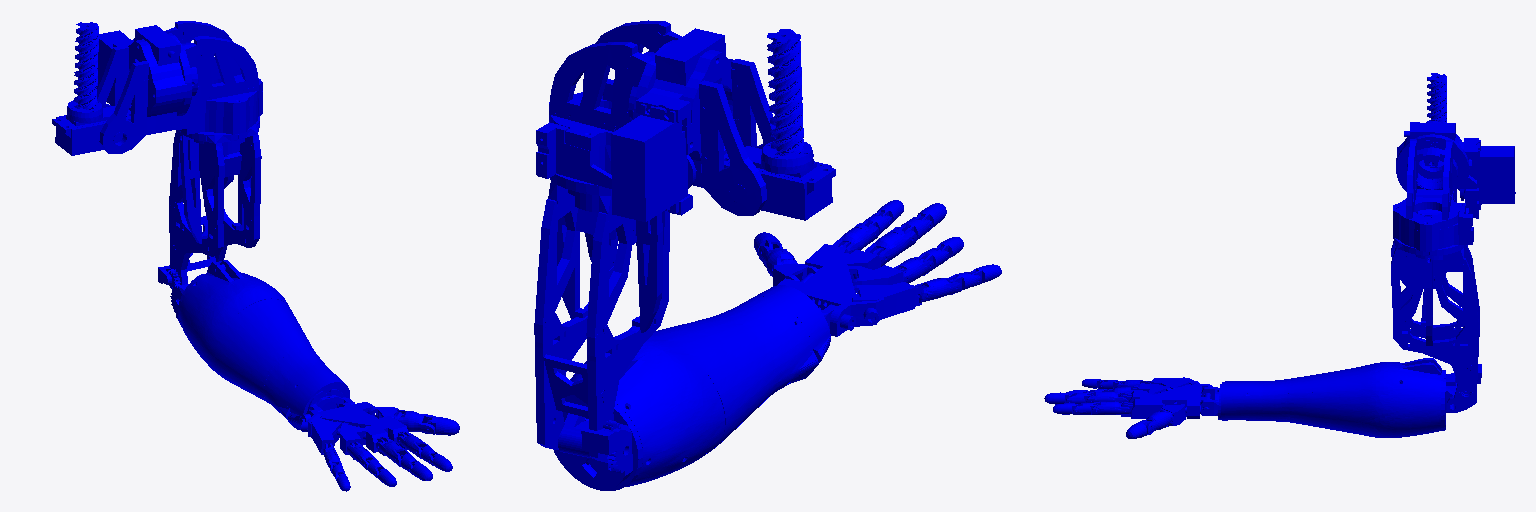
URDF robot description (RobotArm):
<?xml version="1.0"?>
<robot name="RobotArm">

    <material name="blue">
        <color rgba="0 0 1 1"/>
    </material>


<link name="base_link">
        <visual>
            <geometry>
<mesh filename="package://inmoov_description/STL/spallasinistraparte2a.dae" scale="0.009 0.009 0.009" />
            </geometry>
            <origin rpy="4.7 4.747 -0.03" xyz="0.11 -1 -0.91" />
            <material name="blue"/>
        </visual>
        <collision>
            <geometry>
               <mesh filename="package://inmoov_description/STL/spallasinistraparte2a.dae" scale="0.009 0.009 0.009" />
            </geometry>
          <origin rpy="0 0 0" xyz="0 0 0" />
            <material name="blue"/>
        </collision>
    </link>

    <joint name="joint_spallasx" type="revolute">
        <parent link="base_link"/>
        <child link="spalla2_link"/>
      <origin rpy="0 0 -0.02" xyz="0.61 -0.66 -0.31" />
        <axis xyz="1 0 0"/>
        <limit effort="1000" lower="-0.4" upper="0.4" velocity="5"/>
    </joint> 

<link name="spalla2_link">
        <visual>
            <geometry>
<mesh filename="package://inmoov_description/STL/spallasxparte1b.dae" scale="0.009 0.009 0.009" />
            </geometry>
            <origin rpy="4.7 4.747 -0.03" xyz="-0.50 -0.34 -0.6" />
            <material name="blue"/>
        </visual>
        <collision>
            <geometry>
               <mesh filename="package://inmoov_description/STL/spallasxparte1b.dae" scale="0.009 0.009 0.009" />
            </geometry>
          <origin rpy="0 0 0" xyz="0 0 0" />
            <material name="blue"/>
        </collision>
    </link>

    <joint name="joint_bicipitesx" type="revolute">
        <parent link="spalla2_link"/>
        <child link="bicipitesx_link"/>
      <origin rpy="0 0 0" xyz="0.165 0.06 -2.595" />
        <axis xyz="0 0 1"/>
        <limit effort="1000" lower="0" upper="0.5" velocity="5"/>
    </joint>  

  <link name="bicipitesx_link">
        <visual>
            <geometry>
                 <mesh filename="package://inmoov_description/STL/bicipitesxtelaio.dae" scale="0.009 0.009 0.009" />
            </geometry>
            <origin rpy="4.7 0 -0.03" xyz="-1.028 -0.36 2.01" />
            <material name="blue"/>
        </visual>
        <collision>
            <geometry>
               <mesh filename="package://inmoov_description/STL/bicipitesxtelaio.dae" scale="0.009 0.009 0.009" />
            </geometry>
          <origin rpy="0 0 0" xyz="0 0 0" />
            <material name="blue"/>
        </collision>
    </link>

<joint name="joint_servobicipitesx2" type="revolute">
        <parent link="avambracciosx_link"/>
        <child link="servobicipitesx_link"/>
      <origin rpy="0 0 0" xyz="-0.14 -0.15 0.4" />
        <axis xyz="1 0 0"/>
        <limit effort="1000" lower="0.15" upper="0.15" velocity="5"/>
    </joint> 

  <link name="servobicipitesx_link">
        <visual>
            <geometry>
                 <mesh filename="package://inmoov_description/STL/servomotoresinistrobicipite.dae" scale="0.009 0.009 0.009" />
            </geometry>
            <origin rpy="4.7 0 -0.03" xyz="-1.02 -0.455 1.64" />
            <material name="blue"/>
        </visual>
        <collision>
            <geometry>
               <mesh filename="package://inmoov_description/STL/servomotoresinistrobicipite.dae" scale="0.009 0.009 0.009" />
            </geometry>
          <origin rpy="0 0 0" xyz="0 0 0" />
            <material name="blue"/>
        </collision>
    </link>


    <joint name="joint_avambracciosx" type="revolute">
        <parent link="bicipitesx_link"/>
        <child link="avambracciosx_link"/>
      <origin rpy="0 0 0" xyz="0.16 0.23 -0.04" />
        <axis xyz="1 0 0"/>
        <limit effort="1000" lower="-0.3" upper="0" velocity="5"/>
    </joint>  

  <link name="avambracciosx_link">
        <visual>
            <geometry>
                 <mesh filename="package://inmoov_description/STL/avambraccio_sx.dae" scale="0.009 0.009 0.009" />
            </geometry>
            <origin rpy="0 8.75 0" xyz="-0.14 -0.11 -0.13" />
            <material name="blue"/>
        </visual>
        <collision>
            <geometry>
               <mesh filename="package://inmoov_description/STL/avambraccio_sx.dae" scale="0.009 0.009 0.009" />
            </geometry>
          <origin rpy="0 0 0" xyz="0 0 0" />
            <material name="blue"/>
        </collision>
    </link>

    <joint name="joint_mano_sx" type="revolute">
        <parent link="avambracciosx_link"/>
        <child link="handsx_link"/>
      <origin rpy="0 0 0" xyz="-0.34 -0.12 -0.13" />
        <axis xyz="0 1 0"/>
        <limit effort="1000" lower="-1.5" upper="0" velocity="5"/>
    </joint>

<link name="handsx_link">
        <visual>
            <geometry>
                 <mesh filename="package://inmoov_description/STL/mano_sinistra.dae" scale="0.009 0.009 0.009" />
            </geometry>
            <origin rpy="0 1.6 1.55" xyz="0.026 -2.47 0.03" />
            <material name="blue"/>
        </visual>
        <collision>
            <geometry>
               <mesh filename="package://inmoov_description/STL/mano_sinistra.dae" scale="0.009 0.009 0.009" />
            </geometry>
          <origin rpy="7 0 0" xyz="0 -2.4 0" />
            <material name="blue"/>
        </collision>
    </link>

    <joint name="joint_pollice1sx" type="revolute">
        <parent link="handsx_link"/>
        <child link="pollice1sx_link"/>
     <origin rpy="0 0 0" xyz="0.3 -3 0.05" />
        <axis xyz="0 1 0"/>
        <limit effort="1000" lower="-0.5" upper="0" velocity="5"/>
    </joint>


    <link name="pollice1sx_link">
        <visual>
            <geometry>
                 <mesh filename="package://inmoov_description/STL/pollice_sx_1.dae" scale="0.009 0.009 0.009" />
            </geometry>
            <origin rpy="0.25 1.5 1.7" xyz="0 0 0" />
            <material name="blue"/>
        </visual>
        <collision>
            <geometry>
               <mesh filename="package://inmoov_description/STL/pollice_sx_1.dae" scale="0.009 0.009 0.009" />
            </geometry>
           <origin rpy="-3.25 -12.5 3.2" xyz="0.2 -3 -0.2" />
            <material name="blue"/>
        </collision>
    </link>


    <joint name="joint_pollice2sx" type="revolute">
        <parent link="pollice1sx_link"/>
        <child link="pollice2sx_link"/>
        <origin rpy="4.9 1.3 1" xyz="0.2 -0.1 0" />
         <axis xyz="0 1 0"/>
 <limit effort="1000" lower="0" upper="1.5" velocity="5"/>
    </joint>


<link name="pollice2sx_link">
        <visual>
            <geometry>
                 <mesh filename="package://inmoov_description/STL/pollice_2.dae" scale="0.009 0.009 0.009" />
            </geometry>
            <origin xyz="0.0 0.0 0.0175"/>
            <material name="blue"/>
        </visual>
        <collision>
            <geometry>
               <mesh filename="package://inmoov_description/STL/pollice_2.dae" scale="0.009 0.009 0.009" />
            </geometry>
             <origin rpy="0 0 0" xyz="0 0 0" />
            <material name="blue"/>
        </collision>
    </link>

    <joint name="joint_pollice3sx" type="revolute">
        <parent link="pollice2sx_link"/>
        <child link="pollice3sx_link"/>
       <origin rpy="0 0 0" xyz="0 0 -0.3" />
        <axis xyz="0 1 0"/>
        <limit effort="1000" lower="0" upper="1.5" velocity="5"/>
    </joint>

<link name="pollice3sx_link">
        <visual>
            <geometry>
                 <mesh filename="package://inmoov_description/STL/pollice_3.dae" scale="0.009 0.009 0.009" />
            </geometry>
            <origin xyz="0 0 0"/>
            <material name="blue"/>
        </visual>
        <collision>
            <geometry>
               <mesh filename="package://inmoov_description/STL/pollice_3.dae" scale="0.009 0.009 0.009" />
            </geometry>
           <origin rpy="9.4 0 0" xyz="0 0 0" />
            <material name="blue"/>
        </collision>
    </link>    

    <joint name="joint_indice1sx" type="revolute">
        <parent link="handsx_link"/>
        <child link="indice1sx_link"/>
      <origin rpy="0 -4.7 -1.53" xyz="0.31 -3.553 0.08" />
      <axis xyz="0 1 0"/>
 <limit effort="1000" lower="-1" upper="0" velocity="5"/>
    </joint>

   <link name="indice1sx_link">
        <visual>
            <geometry>
                 <mesh filename="package://inmoov_description/STL/indice1.dae" scale="0.009 0.009 0.009" />
            </geometry>
             <origin rpy="0 0 0" xyz="0 0 0.32" />
            <material name="blue"/>
        </visual>
        <collision>
            <geometry>
               <mesh filename="package://inmoov_description/STL/indice1.dae" scale="0.009 0.009 0.009" />
            </geometry>
            <origin rpy="0 0 0" xyz="0 0 0.32" />
            <material name="blue"/>
        </collision>
    </link> 

    <joint name="joint_indice2sx" type="revolute">
        <parent link="indice1sx_link"/>
        <child link="indice2sx_link"/>
        <origin rpy="0 0 0" xyz="0 0 0.35" />
        <axis xyz="0 1 0"/>
         <limit effort="1000" lower="-1.5" upper="0" velocity="5"/>
    </joint>

    <link name="indice2sx_link">
        <visual>
            <geometry>
                 <mesh filename="package://inmoov_description/STL/indice2.dae" scale="0.009 0.009 0.009" />
            </geometry>
            <origin rpy="9.4 0 0" xyz="0 0 -0.025" />
            <material name="blue"/>
        </visual>
        <collision>
            <geometry>
               <mesh filename="package://inmoov_description/STL/indice2.dae" scale="0.009 0.009 0.009" />
            </geometry>
           <origin rpy="9.4 0 0" xyz="0 0 -0.025" />
            <material name="blue"/>
        </collision>
    </link> 

    <joint name="joint_indice3sx" type="revolute">
        <parent link="indice2sx_link"/>
        <child link="indice3sx_link"/>
      <origin rpy="0 0 0" xyz="0 0.005 0.2" />
      <axis xyz="0 1 0"/>
  <limit effort="1000" lower="-1.5" upper="0" velocity="5"/>
    </joint>

    <link name="indice3sx_link">
        <visual>
            <geometry>
                 <mesh filename="package://inmoov_description/STL/indice3.dae" scale="0.009 0.009 0.009" />
            </geometry>
            <origin rpy="9.4 0 0" xyz="0 0 -0.01" />
            <material name="blue"/>
        </visual>
        <collision>
            <geometry>
               <mesh filename="package://inmoov_description/STL/indice3.dae" scale="0.009 0.009 0.009" />
            </geometry>
             <origin rpy="9.4 0 0" xyz="0 0 -0.01" />
            <material name="blue"/>
        </collision>
    </link> 

    <joint name="joint_medio1sx" type="revolute">
        <parent link="handsx_link"/>
        <child link="medio1sx_link"/>
       <origin rpy="0 -4.7 -1.565" xyz="0.065 -3.58 0.08" />
        <axis xyz="0 1 0"/>
       <limit effort="1000" lower="-1.5" upper="0" velocity="5"/>
    </joint>

    <link name="medio1sx_link">
        <visual>
            <geometry>
                 <mesh filename="package://inmoov_description/STL/medio_1.dae" scale="0.009 0.009 0.009" />
            </geometry>
           <origin rpy="0 0 0" xyz="0 0 0.35" />
            <material name="blue"/>
        </visual>
        <collision>
            <geometry>
               <mesh filename="package://inmoov_description/STL/medio_1.dae" scale="0.009 0.009 0.009" />
            </geometry>
             <origin rpy="0 0 0" xyz="0 0 0.35" />
            <material name="blue"/>
        </collision>
    </link> 

    <joint name="joint_medio2sx" type="revolute">
        <parent link="medio1sx_link"/>
        <child link="medio2sx_link"/>
          <origin rpy="0 0 0" xyz="0 0 0.35" />
        <axis xyz="0 1 0"/>
         <limit effort="1000" lower="-1.5" upper="0" velocity="5"/>
    </joint>

    <link name="medio2sx_link">
        <visual>
            <geometry>
                 <mesh filename="package://inmoov_description/STL/medio_2.dae" scale="0.009 0.009 0.009" />
            </geometry>
              <origin rpy="9.4 0 0" xyz="0 0 0.015" />
            <material name="blue"/>
        </visual>
        <collision>
            <geometry>
               <mesh filename="package://inmoov_description/STL/medio_2.dae" scale="0.009 0.009 0.009" />
            </geometry>
             <origin rpy="9.4 0 0" xyz="0 0 0.015" />
            <material name="blue"/>
        </collision>
    </link> 

    <joint name="joint_medio3sx" type="revolute">
        <parent link="medio2sx_link"/>
        <child link="medio3sx_link"/>
         <origin rpy="0 0 0" xyz="0 0 0.22" />
      <axis xyz="0 1 0"/>
  <limit effort="1000" lower="-1.5" upper="0" velocity="5"/>
    </joint>

    <link name="medio3sx_link">
        <visual>
            <geometry>
                 <mesh filename="package://inmoov_description/STL/medio_3.dae" scale="0.009 0.009 0.009" />
            </geometry>
             <origin rpy="9.4 0 0" xyz="0 0 0.02" />
            <material name="blue"/>
        </visual>
        <collision>
            <geometry>
               <mesh filename="package://inmoov_description/STL/medio_3.dae" scale="0.009 0.009 0.009" />
            </geometry>
             <origin rpy="9.4 0 0" xyz="0 0 0.02" />
            <material name="blue"/>
        </collision>
    </link> 

   <joint name="joint_anularesx1" type="revolute">
        <parent link="handsx_link"/>
        <child link="anulare1sx_link"/>
       <origin rpy="-0.7 1.5 1.5" xyz="0 -3.2 0.05" />
        <axis xyz="0 0 1"/>
           <limit effort="1000" lower="0" upper="0.5" velocity="5"/>
    </joint>

    <link name="anulare1sx_link">
        <visual>
            <geometry>
                 <mesh filename="package://inmoov_description/STL/anulare_sx_1.dae" scale="0.009 0.009 0.009" />
            </geometry>
           <origin rpy="0 0 0" xyz="0 0 0.05" />
            <material name="blue"/>
        </visual>
        <collision>
            <geometry>
               <mesh filename="package://inmoov_description/STL/anulare_sx_1.dae" scale="0.009 0.009 0.009" />
            </geometry>
             <origin rpy="0 0 0" xyz="0 0 0.35" />
            <material name="blue"/>
        </collision>
    </link> 

    <joint name="joint_anulare2sx" type="revolute">
        <parent link="anulare1sx_link"/>
        <child link="anulare2sx_link"/>
          <origin rpy="-2.5 0 0" xyz="0 0.3 -0.08" />
        <axis xyz="0 1 0"/>
         <limit effort="1000" lower="-1.5" upper="0" velocity="5"/>
    </joint>

    <link name="anulare2sx_link">
        <visual>
            <geometry>
                 <mesh filename="package://inmoov_description/STL/anulare_2.dae" scale="0.009 0.009 0.009" />
            </geometry>
              <origin rpy="9.4 0 0" xyz="0 0 0" />
            <material name="blue"/>
        </visual>
        <collision>
            <geometry>
               <mesh filename="package://inmoov_description/STL/anulare_2.dae" scale="0.009 0.009 0.009" />
            </geometry>
             <origin rpy="9.4 0 0" xyz="0 0 0" />
            <material name="blue"/>
        </collision>
    </link> 

    <joint name="joint_anulare3sx" type="revolute">
        <parent link="anulare2sx_link"/>
        <child link="anulare3sx_link"/>
         <origin rpy="0 0 0" xyz="0 0 0.32" />
      <axis xyz="0 1 0"/>
  <limit effort="1000" lower="-1.5" upper="0" velocity="5"/>
    </joint>

    <link name="anulare3sx_link">
        <visual>
            <geometry>
                 <mesh filename="package://inmoov_description/STL/anulare_3.dae" scale="0.009 0.009 0.009" />
            </geometry>
             <origin rpy="9.4 0 0" xyz="0 0 0" />
            <material name="blue"/>
        </visual>
        <collision>
            <geometry>
               <mesh filename="package://inmoov_description/STL/anulare_3.dae" scale="0.009 0.009 0.009" />
            </geometry>
             <origin rpy="9.4 0 0" xyz="0 0 0.02" />
            <material name="blue"/>
        </collision>
    </link> 

 <joint name="joint_anulare4sx" type="revolute">
        <parent link="anulare3sx_link"/>
        <child link="anulare4sx_link"/>
         <origin rpy="0 0 0" xyz="0 0 0.22" />
      <axis xyz="0 1 0"/>
  <limit effort="1000" lower="-1.5" upper="0" velocity="5"/>
    </joint>

    <link name="anulare4sx_link">
        <visual>
            <geometry>
                 <mesh filename="package://inmoov_description/STL/anulare_4.dae" scale="0.009 0.009 0.009" />
            </geometry>
             <origin rpy="9.4 0 0" xyz="0 0 0" />
            <material name="blue"/>
        </visual>
        <collision>
            <geometry>
               <mesh filename="package://inmoov_description/STL/anulare_4.dae" scale="0.009 0.009 0.009" />
            </geometry>
             <origin rpy="9.4 0 0" xyz="0 0 0" />
            <material name="blue"/>
        </collision>
    </link> 

 <joint name="joint_mignolosx" type="revolute">
        <parent link="handsx_link"/>
        <child link="link_mignoloprimosx"/>
       <origin rpy="-0.7 1.48 1.5" xyz="-0.2 -2.9 0.05" />
        <axis xyz="0 0 1"/>
        <limit effort="1000" lower="0" upper="0.5" velocity="5"/>
    </joint>

    <link name="link_mignoloprimosx">
        <visual>
            <geometry>
                 <mesh filename="package://inmoov_description/STL/mignolo_sx_1.dae" scale="0.009 0.009 0.009" />
            </geometry>
           <origin rpy="0 0 0" xyz="0 0 0" />
            <material name="blue"/>
        </visual>
        <collision>
            <geometry>
               <mesh filename="package://inmoov_description/STL/mignolo_sx_1.dae" scale="0.009 0.009 0.009" />
            </geometry>
             <origin rpy="0 0 0" xyz="0 0 0" />
            <material name="blue"/>
        </collision>
    </link> 

<joint name="joint_mignolo2sx" type="revolute">
        <parent link="link_mignoloprimosx"/>
        <child link="link_mignolosecondosx"/>
       <origin rpy="0.9 0 0" xyz="0 0.45 -0.23" />
        <axis xyz="0 1 0"/>
         <limit effort="1000" lower="0" upper="1.5" velocity="5"/>
    </joint>

    <link name="link_mignolosecondosx">
        <visual>
            <geometry>
                 <mesh filename="package://inmoov_description/STL/mignolo_2.dae" scale="0.009 0.009 0.009" />
            </geometry>
           <origin rpy="0 0 0" xyz="0 0 0" />
            <material name="blue"/>
        </visual>
        <collision>
            <geometry>
               <mesh filename="package://inmoov_description/STL/mignolo_2.dae" scale="0.009 0.009 0.009" />
            </geometry>
             <origin rpy="0 0 0" xyz="0 0 0" />
            <material name="blue"/>
        </collision>
    </link> 

<joint name="joint_mignolo3sx" type="revolute">
        <parent link="link_mignolosecondosx"/>
        <child link="link_mignoloterzosx"/>
       <origin rpy="0 0 0" xyz="0 0 -0.3" />
        <axis xyz="0 1 0"/>
          <limit effort="1000" lower="0" upper="1.5" velocity="5"/>
    </joint>

    <link name="link_mignoloterzosx">
        <visual>
            <geometry>
                 <mesh filename="package://inmoov_description/STL/mignolo_3.dae" scale="0.009 0.009 0.009" />
            </geometry>
           <origin rpy="0 0 0" xyz="0 0 0" />
            <material name="blue"/>
        </visual>
        <collision>
            <geometry>
               <mesh filename="package://inmoov_description/STL/mignolo_3.dae" scale="0.009 0.009 0.009" />
            </geometry>
             <origin rpy="0 0 0" xyz="0 0 0" />
            <material name="blue"/>
        </collision>
    </link> 

<joint name="joint_mignolo4sx" type="revolute">
        <parent link="link_mignoloterzosx"/>
        <child link="link_mignoloquartosx"/>
       <origin rpy="0 0 0" xyz="0 0 -0.2" />
        <axis xyz="0 1 0"/>
          <limit effort="1000" lower="0" upper="1.5" velocity="5"/>
    </joint>

    <link name="link_mignoloquartosx">
        <visual>
            <geometry>
                 <mesh filename="package://inmoov_description/STL/mignolo_4.dae" scale="0.009 0.009 0.009" />
            </geometry>
           <origin rpy="0 0 0" xyz="0 0 0" />
            <material name="blue"/>
        </visual>
        <collision>
            <geometry>
               <mesh filename="package://inmoov_description/STL/mignolo_4.dae" scale="0.009 0.009 0.009" />
            </geometry>
             <origin rpy="0 0 0" xyz="0 0 0" />
            <material name="blue"/>
        </collision>
    </link> 




</robot>

--- Render facts (derived) ---
Views: 3 orthographic renders of the robot side by side, from view 1: azimuth 30°, elevation 25°; view 2: azimuth 150°, elevation 25°; view 3: azimuth 270°, elevation 25°.
Model RobotArm with 23 links and 22 joints (22 revolute), rooted at base_link, posed all joints at 0 but 1 set to mid-range because 0 is outside their limits (joint_servobicipitesx2 = 0.15).
Links seen in each view (by area): view 1: avambracciosx_link, base_link, bicipitesx_link, spalla2_link, handsx_link, link_mignoloprimosx, pollice2sx_link, anulare1sx_link; view 2: base_link, avambracciosx_link, bicipitesx_link, spalla2_link, handsx_link, link_mignoloprimosx, anulare1sx_link, medio1sx_link, indice1sx_link, link_mignolosecondosx, pollice1sx_link, anulare2sx_link (+1 smaller); view 3: avambracciosx_link, bicipitesx_link, spalla2_link, base_link, handsx_link.
Boxes of the visible links, left/top/right/bottom form: avambracciosx_link: left=170, top=260, right=349, bottom=429; base_link: left=52, top=22, right=186, bottom=155; bicipitesx_link: left=158, top=116, right=261, bottom=289; spalla2_link: left=165, top=21, right=262, bottom=134; handsx_link: left=301, top=389, right=409, bottom=455; link_mignoloprimosx: left=311, top=414, right=341, bottom=454; pollice2sx_link: left=398, top=410, right=435, bottom=434; anulare1sx_link: left=340, top=422, right=369, bottom=459; base_link: left=611, top=28, right=835, bottom=221; avambracciosx_link: left=554, top=285, right=830, bottom=490; bicipitesx_link: left=534, top=174, right=669, bottom=462; spalla2_link: left=536, top=20, right=681, bottom=188; handsx_link: left=778, top=240, right=884, bottom=336; link_mignoloprimosx: left=852, top=282, right=921, bottom=319; anulare1sx_link: left=848, top=265, right=906, bottom=296; medio1sx_link: left=865, top=227, right=916, bottom=266; indice1sx_link: left=833, top=223, right=878, bottom=253; link_mignolosecondosx: left=915, top=278, right=961, bottom=302; pollice1sx_link: left=773, top=259, right=818, bottom=285; anulare2sx_link: left=896, top=257, right=933, bottom=283; avambracciosx_link: left=1221, top=358, right=1456, bottom=437; bicipitesx_link: left=1391, top=237, right=1481, bottom=412; spalla2_link: left=1393, top=134, right=1478, bottom=251; base_link: left=1396, top=73, right=1515, bottom=209; handsx_link: left=1119, top=377, right=1221, bottom=419.
Bounding box of the posed robot: 2.54 × 5.3 × 3.81 m (x, y, z).
Meshes: 23 distinct files referenced, 22 mesh visuals loaded (22 Collada DAE); not drawn: 1 (reference not matched to a file when rendering).